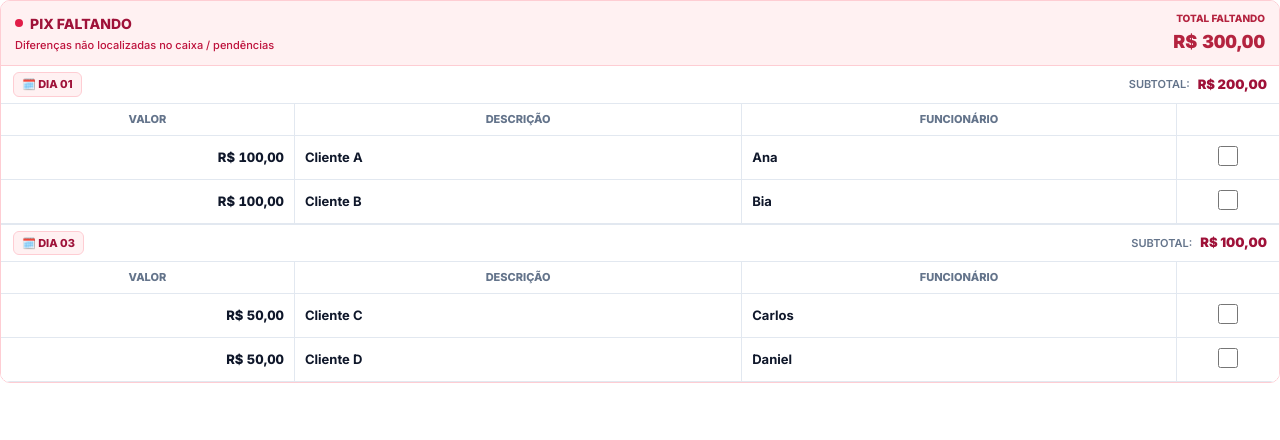
Integração de Seleção Múltipla no Ledger do Relatório › permite selecionar múltiplas linhas de dias diferentes com Ctrl e exibe total acumulado
# Seleciona duas linhas do dia 1 (item-1 e item-2, R$ 100 cada)
Click the 1st cell with class "rp-check-cell" at {"x": 1228, "y": 158}, box [1177,136,1279,180]
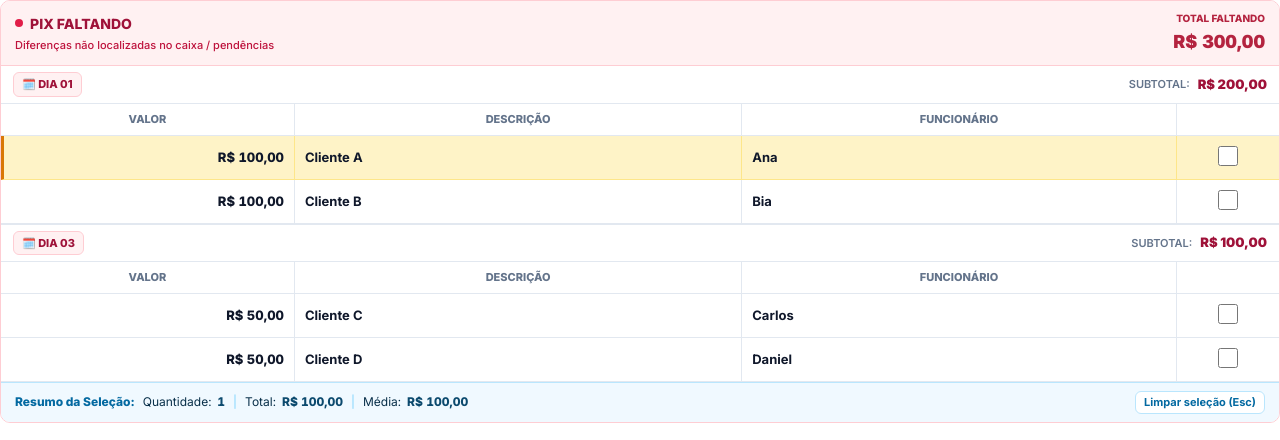
Click the 2nd cell with class "rp-check-cell" at {"x": 1228, "y": 202}, box [1177,180,1279,224]
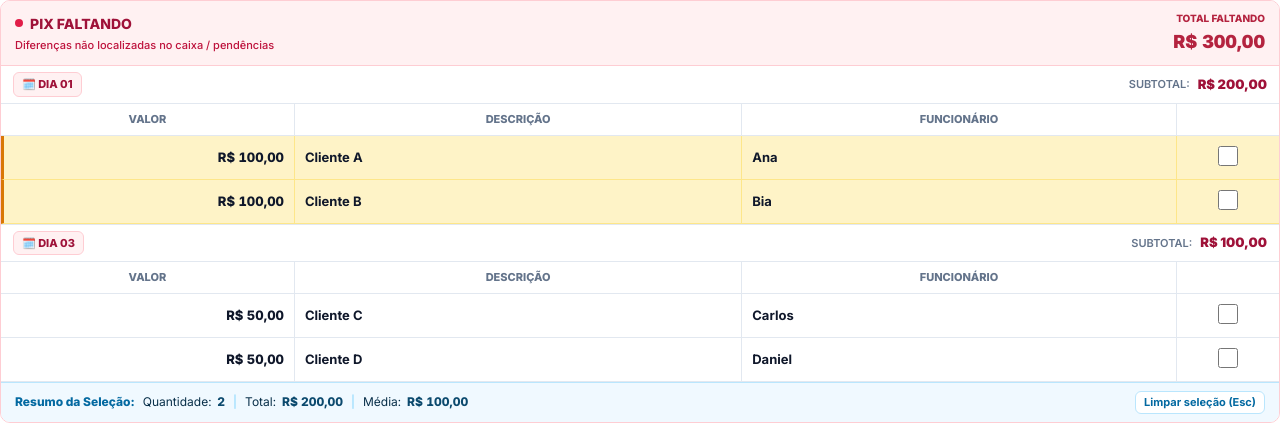
Check: the footer "Resumo da Seleção" shows "Quantidade: 2", box [1,382,1279,422]
# Mantém Ctrl pressionado e seleciona duas linhas do dia 3 (item-3 e item-4, R$ 50 cada)
Click the 3rd cell with class "rp-check-cell" at {"x": 1228, "y": 316}, box [1177,294,1279,338]
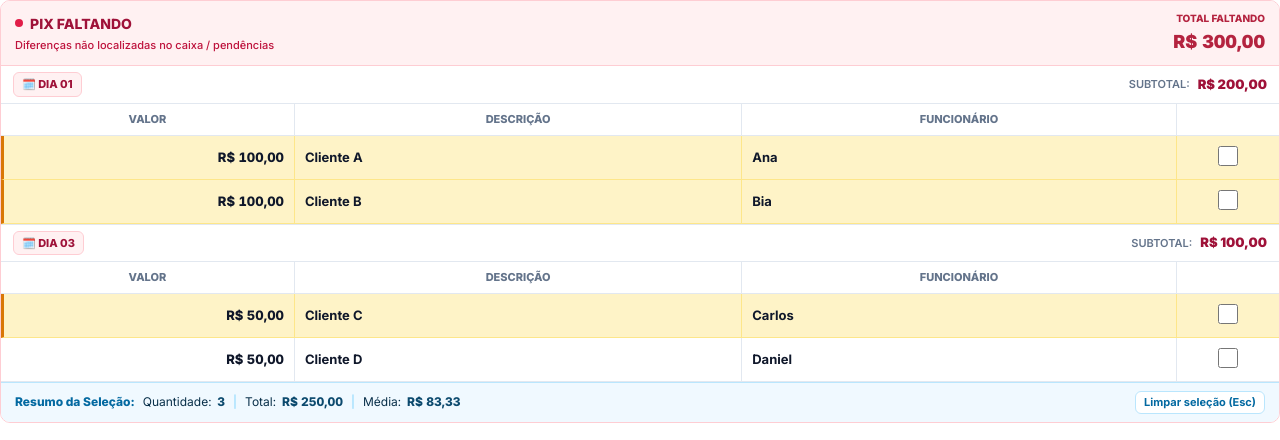
Click the 4th cell with class "rp-check-cell" at {"x": 1228, "y": 360}, box [1177,338,1279,382]
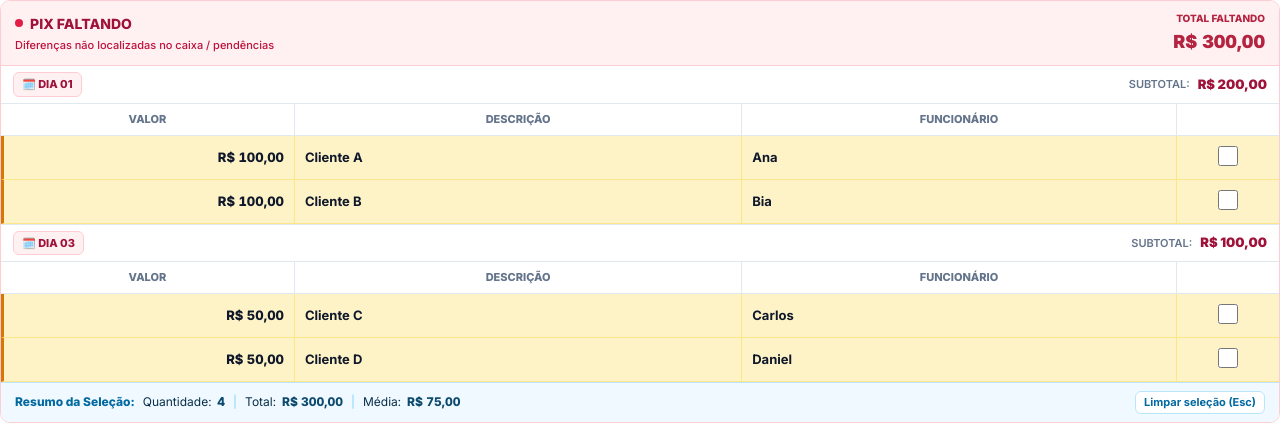
Check: the footer "Resumo da Seleção" shows "Quantidade: 4", box [1,382,1279,422]
